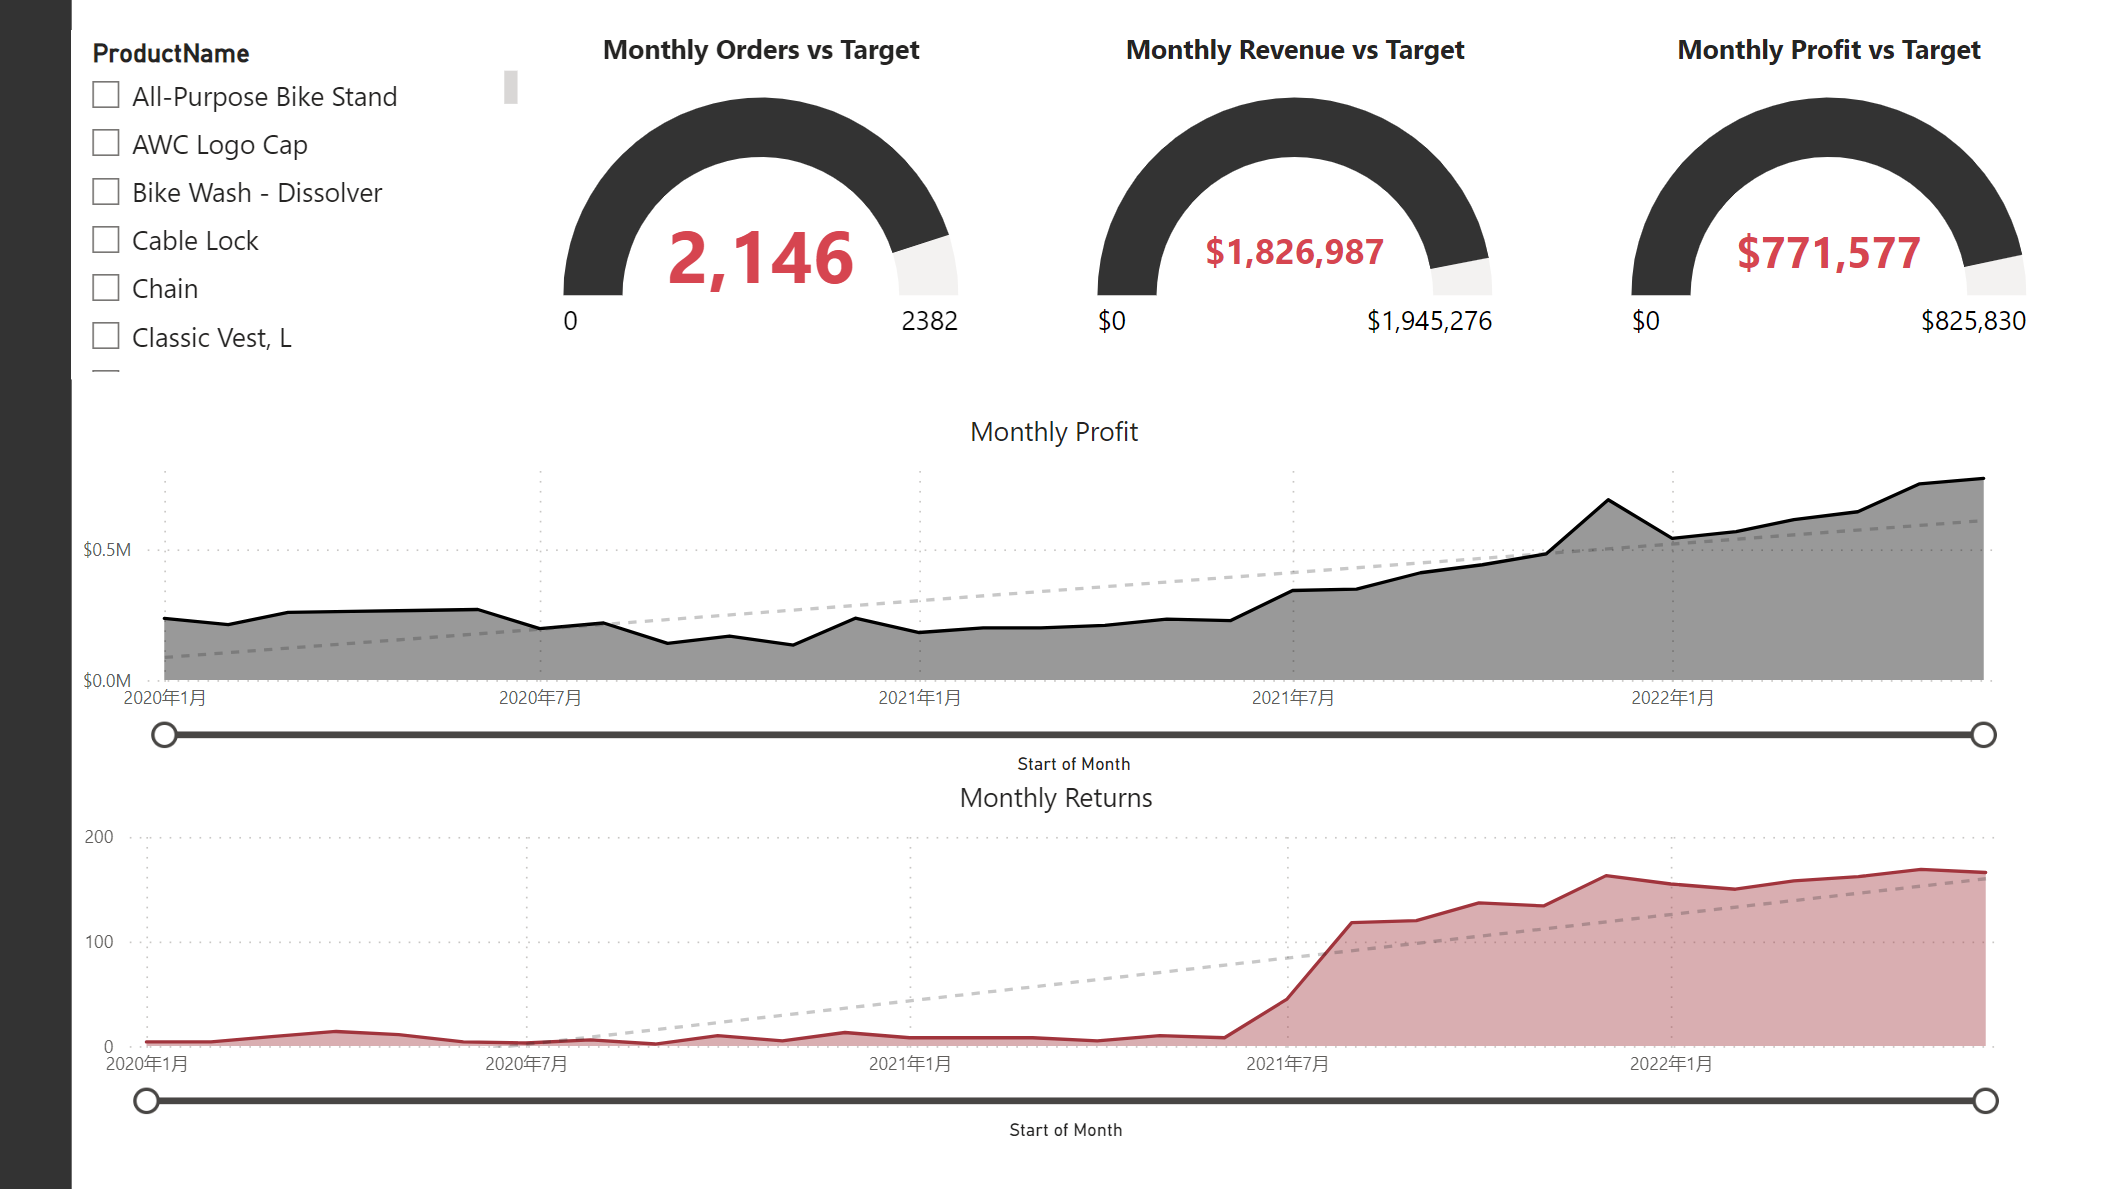

The page's visual inventory and layout, read from the dashboard file:
{"tool":"powerbi","page":{"name":"Product Detail","canvas":[1280,720],"ordinal":2},"visuals":[{"type":"shape","box":[0,0,45,720.5],"z":0},{"type":"slicer","fields":{"Values":["Product Lookup.ProductName"]},"box":[44.8,17.5,274.2,210.5],"z":1000},{"type":"gauge","title":"Monthly Orders vs Target","fields":{"Y":["Measure Table.Total Orders"],"MaxValue":["Measure Table.Order Target"]},"box":[335.9,17.5,248.2,210.5],"z":2000},{"type":"gauge","title":"Monthly Revenue vs Target","fields":{"Y":["Measure Table.Total Revenue"],"MaxValue":["Measure Table.Revenue Target"]},"box":[657.5,17.5,248.2,210.5],"z":3000},{"type":"gauge","title":"Monthly Profit vs Target","fields":{"Y":["Measure Table.Total Profit"],"MaxValue":["Measure Table.Profit Target"]},"box":[979.2,17.5,248.2,210.5],"z":4000},{"type":"areaChart","title":"Monthly Profit","fields":{"Category":["Calendar Lookup.Start of Month Hierarchy.Start of Month"],"Y":["Measure Table.Total Profit"]},"box":[45.3,247.7,1181.9,222.6],"z":5000},{"type":"areaChart","title":"Monthly Returns","fields":{"Category":["Calendar Lookup.Start of Month Hierarchy.Start of Month"],"Y":["Measure Table.Total Returns"]},"box":[46.5,469,1181.9,222.6],"z":5001}]}

Visuals, with their boxes in screenshot pixels (x1, y1, x2, y2), scaled from the page's 1280x720 canvas onto the 2117x1189 screenshot:
shape: l=0, t=0, r=74, b=1188
slicer - Product Lookup.ProductName: l=74, t=29, r=528, b=377
"Monthly Orders vs Target" gauge: l=556, t=29, r=966, b=377
"Monthly Revenue vs Target" gauge: l=1087, t=29, r=1498, b=377
"Monthly Profit vs Target" gauge: l=1620, t=29, r=2030, b=377
"Monthly Profit" areaChart: l=75, t=409, r=2030, b=777
"Monthly Returns" areaChart: l=77, t=775, r=2032, b=1142
